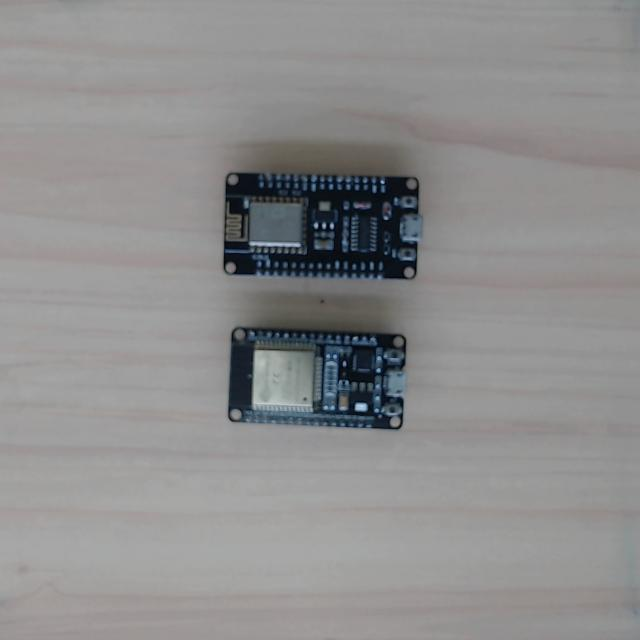ESP32-DevKit: (227, 327, 408, 429)
ESP8266-NodeMCU: (223, 173, 423, 279)
